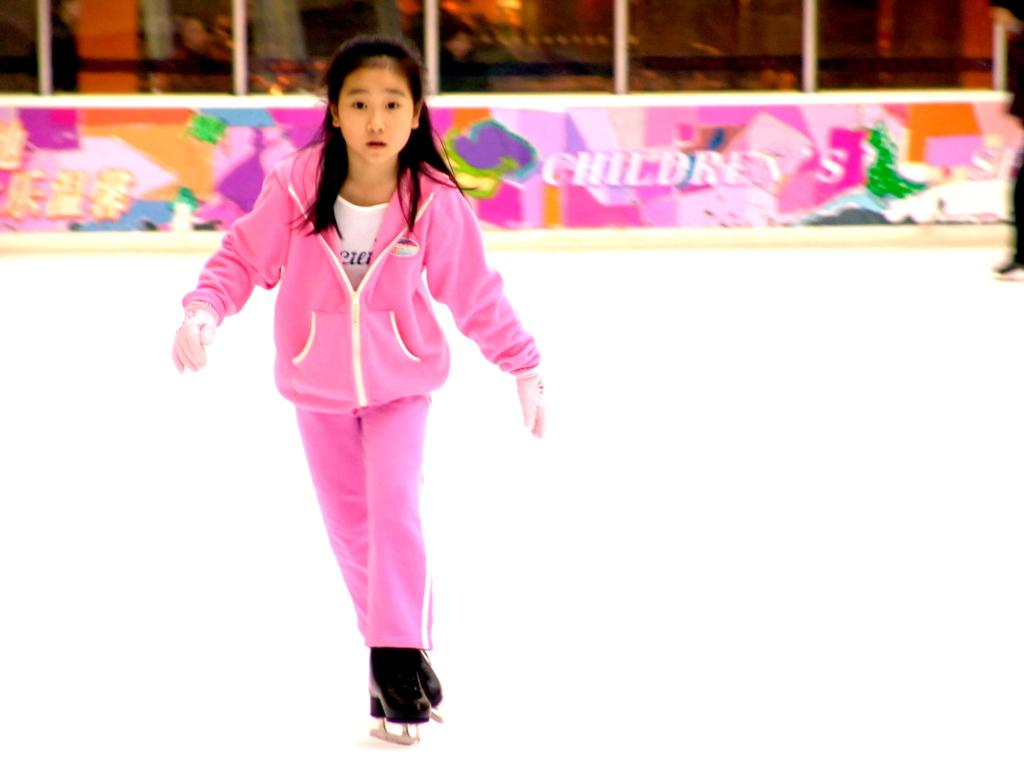face: (338, 56, 416, 162)
